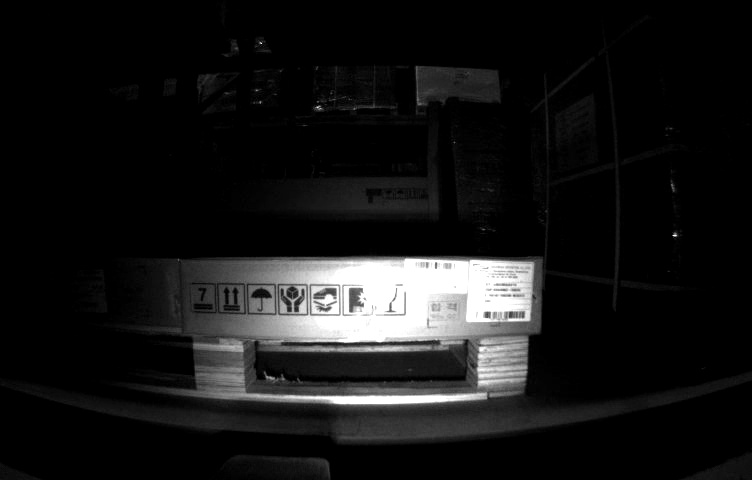True Barcode: (59, 266, 104, 313)
